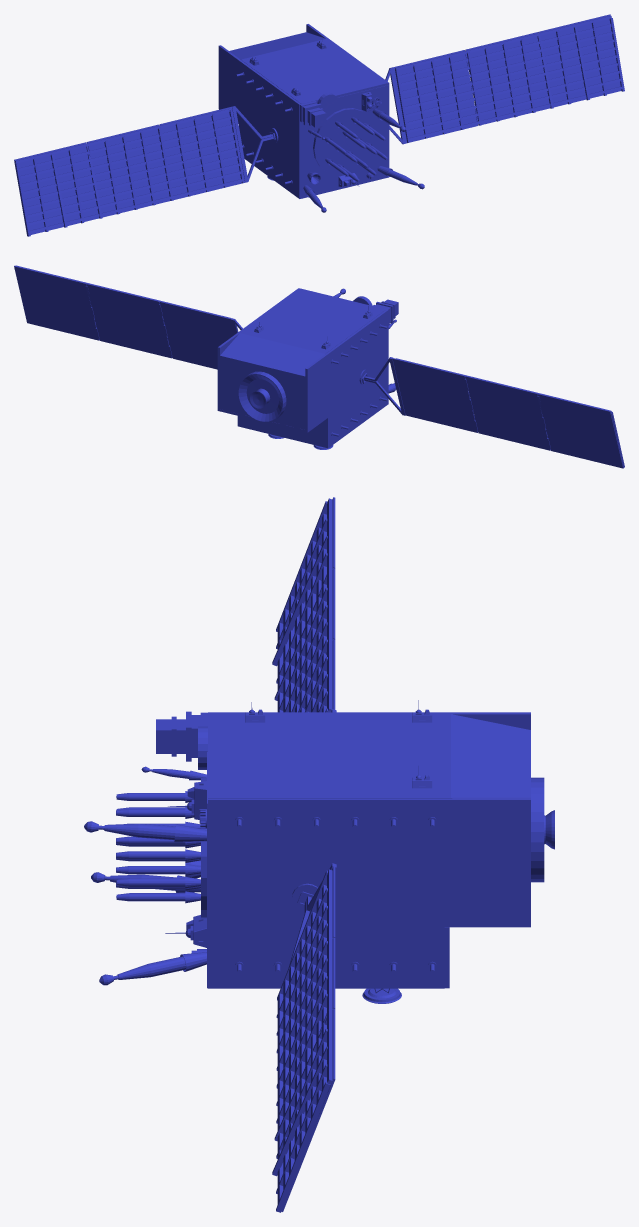
The model's file is MEO.glb.
3 views of the same model, one above another, from view 1: azimuth 30°, elevation 25°; view 2: azimuth 150°, elevation 25°; view 3: azimuth 270°, elevation 25° (orthographic). The views are drawn at different scales.
Parts seen in each view (by area): view 1: node_id4; view 2: node_id4; view 3: node_id4.
Boxes of the visible parts, x1=… form: node_id4: x1=14, y1=14, x2=624, y2=236; node_id4: x1=14, y1=265, x2=624, y2=468; node_id4: x1=84, y1=497, x2=554, y2=1212.
Bounding box in the file's own units: 0.512 × 0.0993 × 0.1749.
Materials: 1 (1 with a texture image).
